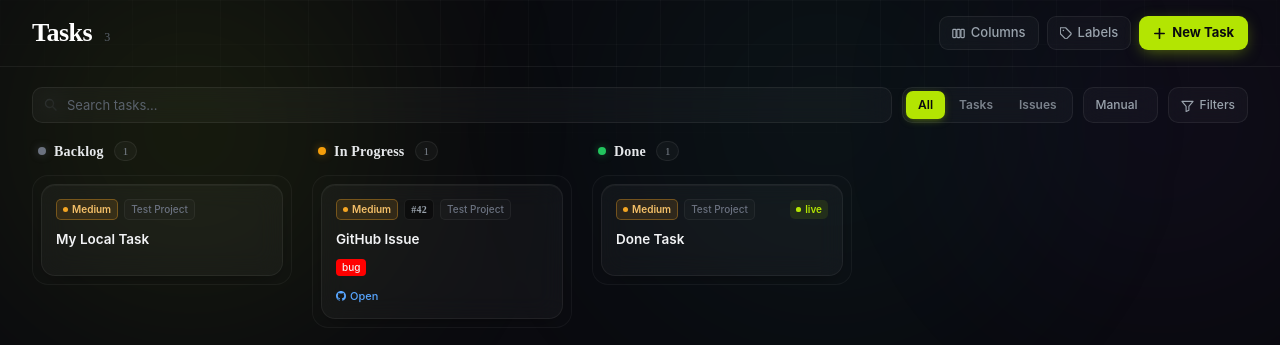
KanbanBoard › filters to local tasks only when the Tasks segment is selected
Check: the heading "Backlog" is shown, box [54,140,104,162]
What coordinates should you click on to do the following:
click the tab "Tasks"
I would click on:
 (976, 105)
Its box is [947,91,1005,119].
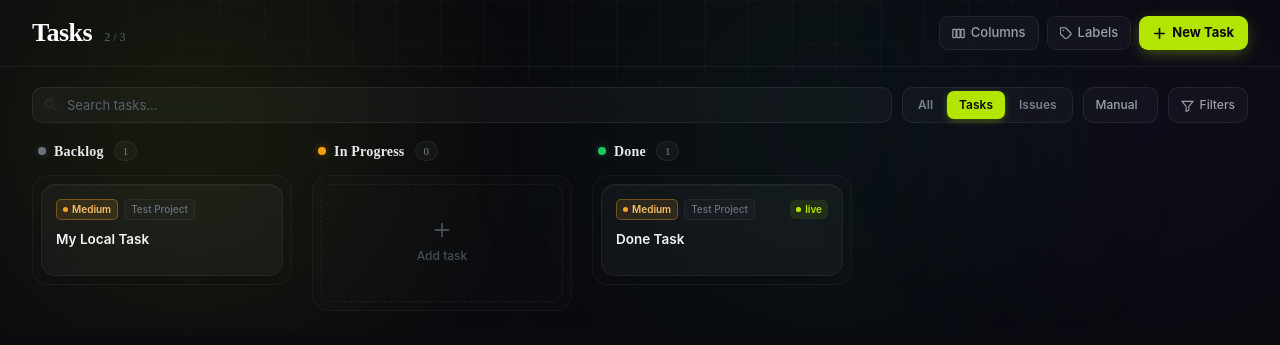
Check: the heading "My Local Task" is shown, box [56,231,149,247]
Check: the heading "GitHub Issue" is gone
